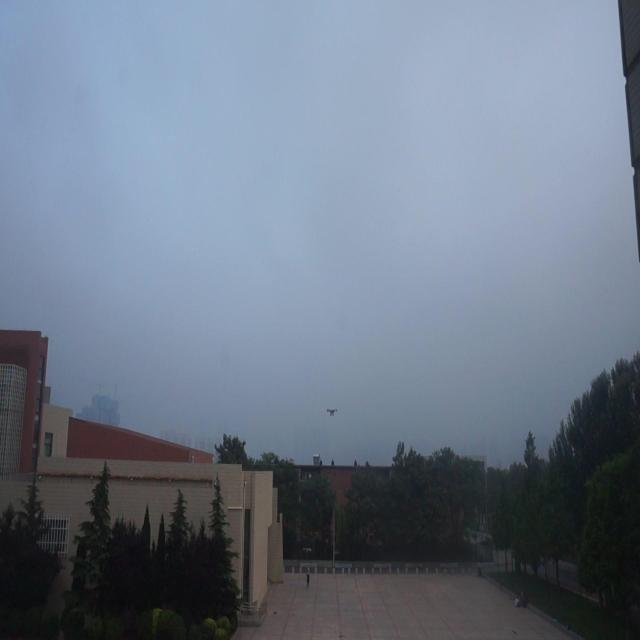drone: (326, 405, 339, 421)
